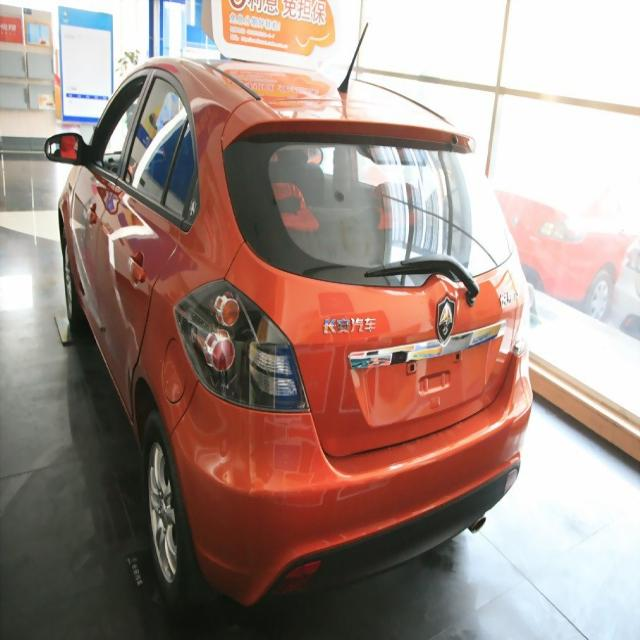back_glass: (222, 124, 518, 294)
back_left_side_light: (171, 276, 310, 416)
front_left_side_door: (68, 67, 151, 314)
front_left_side_mirror: (42, 130, 94, 167)
rear_bumper: (169, 343, 534, 614)
wheel: (142, 417, 204, 622)
